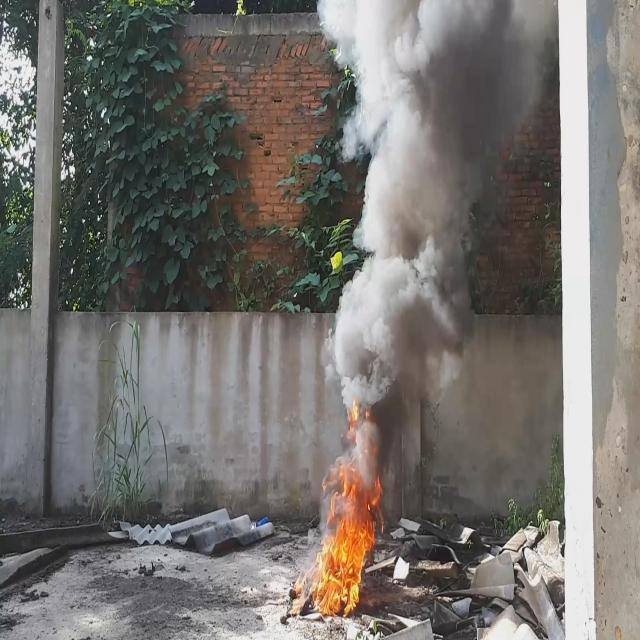Fire: (311, 398, 386, 619)
Smoke: (318, 0, 558, 489)
